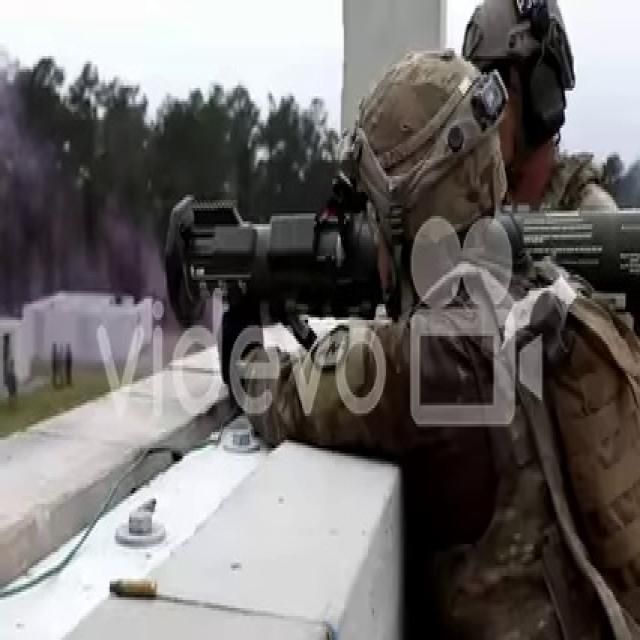bazooka: (160, 186, 640, 335)
